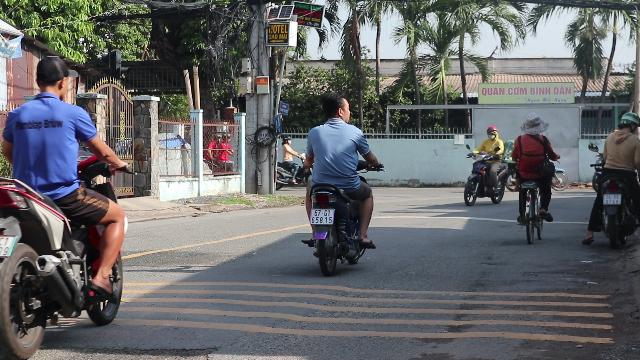licenseplate: (311, 208, 334, 224), (603, 194, 621, 204)
motorcyclist: (1, 55, 135, 350), (296, 90, 379, 274), (586, 110, 638, 246)
nohelmet: (30, 55, 74, 101), (320, 90, 352, 124), (616, 111, 638, 133)
